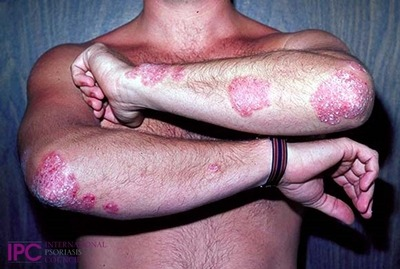Psoriasis: (307, 62, 377, 129), (30, 151, 78, 211), (223, 73, 275, 122), (117, 61, 175, 90), (76, 193, 96, 215), (101, 200, 119, 220)
